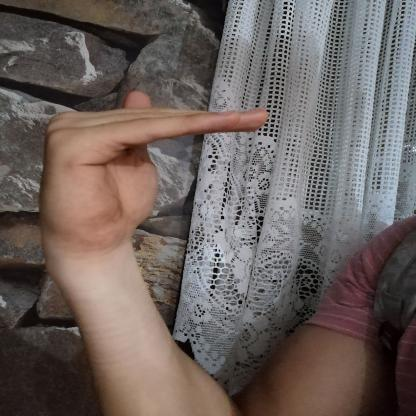KHAA: (15, 81, 293, 270)
